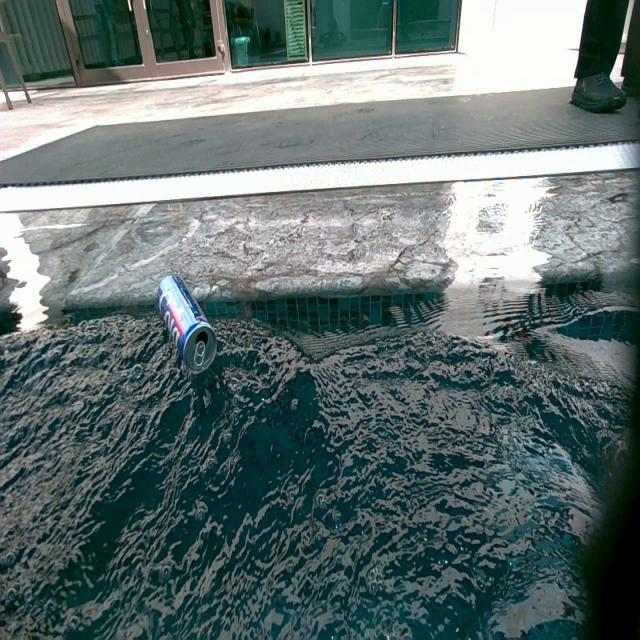Cans: (158, 274, 218, 376)
